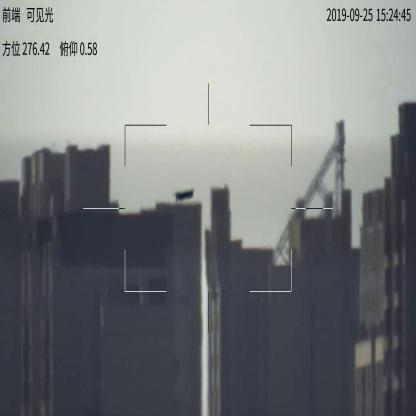uav: (173, 186, 194, 202)
